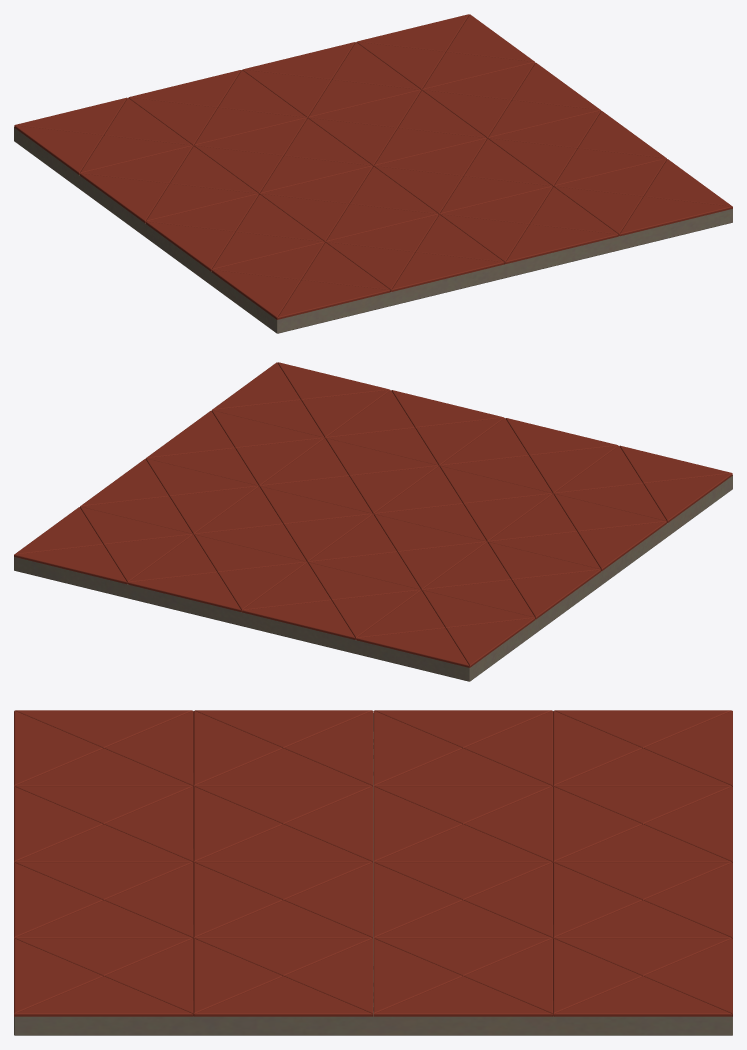
Rendered from SK5 CEILING LARGE.fbx.
3 views of the same model, one above another, from view 1: azimuth 30°, elevation 25°; view 2: azimuth 150°, elevation 25°; view 3: azimuth 270°, elevation 25° (orthographic). The views are drawn at different scales.
Visible parts, largest first — view 1: SK5 CEILING LARGE; view 2: SK5 CEILING LARGE; view 3: SK5 CEILING LARGE.
Part boxes in pixels (x1,y1,x2,y2): SK5 CEILING LARGE: (14,14,732,333); SK5 CEILING LARGE: (14,362,732,681); SK5 CEILING LARGE: (14,710,732,1035).
Bounding box in the file's own units: 400 × 15.5 × 400.
